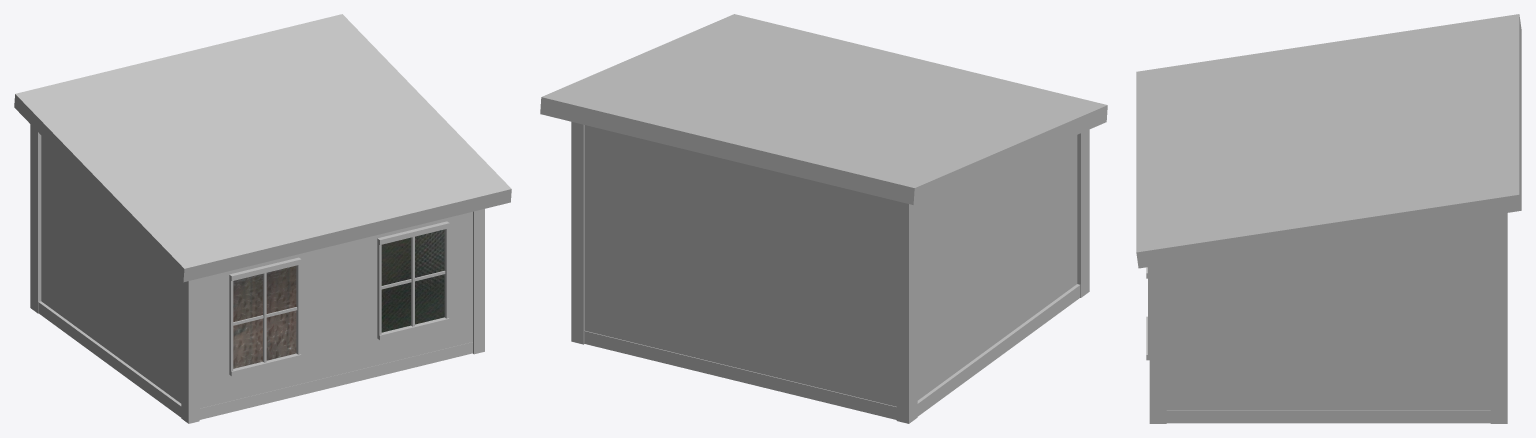
Rendered from apart_poor_08b.fbx.
The picture shows the model from 3 angles, left to right: view 1: azimuth 30°, elevation 25°; view 2: azimuth 150°, elevation 25°; view 3: azimuth 270°, elevation 25°; orthographic projection. The views are drawn at different scales.
Visible parts, largest first — view 1: apart_poor_08b; view 2: apart_poor_08b; view 3: apart_poor_08b.
Boxes of the visible parts, x1,y1,x2,y2 form: apart_poor_08b: (14,14,511,423); apart_poor_08b: (540,14,1107,423); apart_poor_08b: (1136,14,1521,423).
Bounding box in the file's own units: 4.46 × 2.77 × 4.02.
